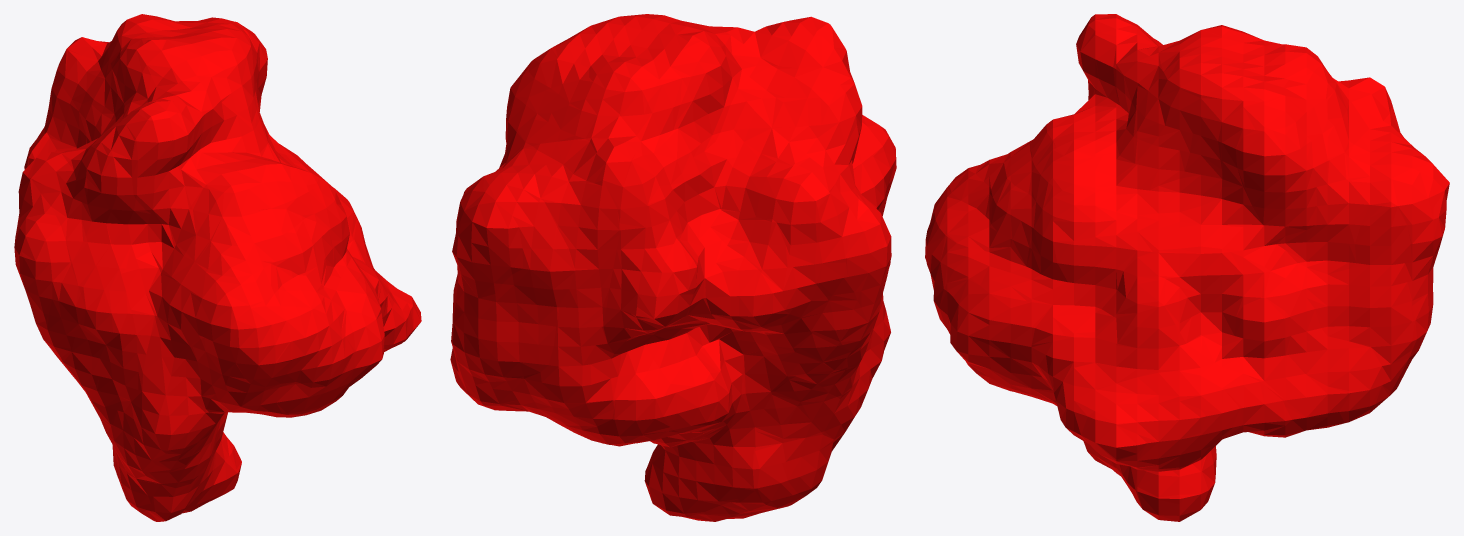
Rendered from trpE_coarse.dae.
3 renders of one model, left to right at view 1: azimuth 30°, elevation 25°; view 2: azimuth 150°, elevation 25°; view 3: azimuth 270°, elevation 25°, orthographic. The views are drawn at different scales.
Visible parts, largest first — view 1: trpE; view 2: trpE; view 3: trpE.
Boxes of the visible parts, x1,y1,x2,y2 form: trpE: (14, 14, 421, 521); trpE: (450, 14, 896, 521); trpE: (925, 14, 1449, 521).
Size of the model in its own units: 63.31 by 73.19 by 72.82.
